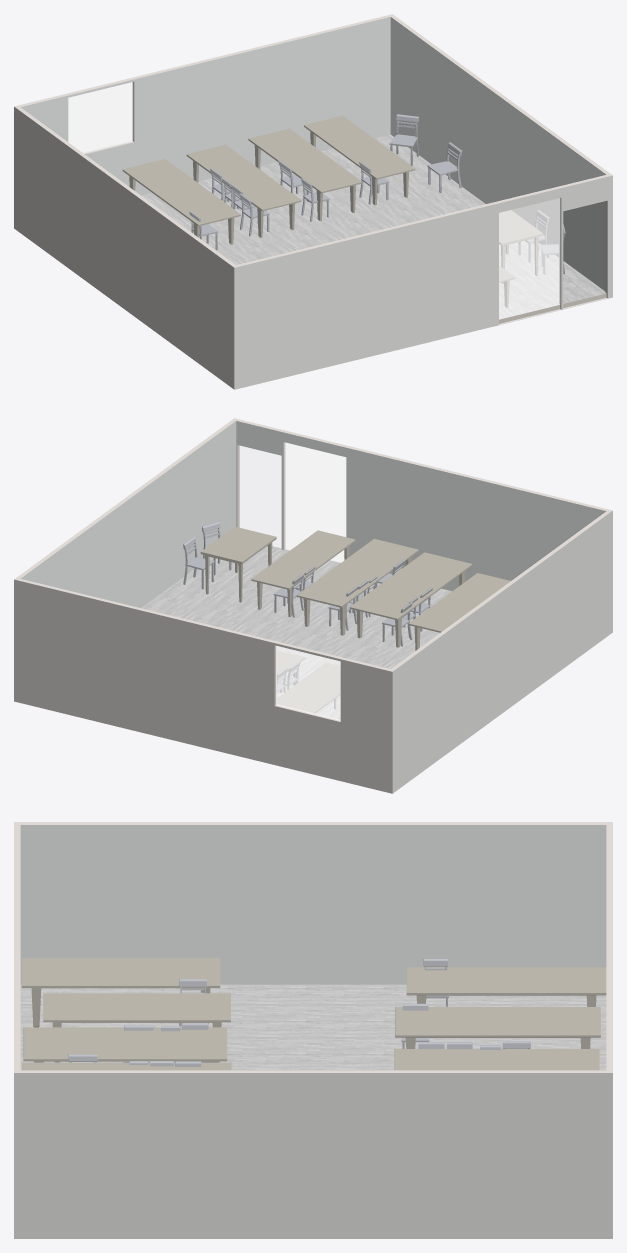
3 renders of one model, top to bottom at view 1: azimuth 30°, elevation 25°; view 2: azimuth 150°, elevation 25°; view 3: azimuth 270°, elevation 25°, orthographic. The views are drawn at different scales.
Parts seen in each view (by area): view 1: ceiling_Dining Room_0, wall_3, wall_4, wall_1, wall_8, floor_Dining Room_0, door_0, door_2, window_0, window_2, table_dining_rect5, table_dining_rect9 (+10 smaller); view 2: ceiling_Dining Room_0, wall_0, wall_1, wall_10, wall_8, floor_Dining Room_0, door_0, door_2, table_dining_rect0, table_dining_rect6, window_0, window_2 (+9 smaller); view 3: ceiling_Dining Room_0, wall_2, wall_6, floor_Dining Room_0, table_dining_rect0, table_dining_rect5, table_dining_rect2, table_dining_rect8, table_dining_rect4, table_dining_rect10, wall_7, wall_9 (+3 smaller).
Boxes of the visible parts, bbox=[...] form: ceiling_Dining Room_0: bbox=[22, 17, 604, 263]; wall_3: bbox=[234, 175, 612, 389]; wall_4: bbox=[21, 17, 390, 195]; wall_1: bbox=[14, 107, 234, 389]; wall_8: bbox=[390, 17, 605, 290]; floor_Dining Room_0: bbox=[141, 134, 606, 319]; door_0: bbox=[499, 198, 559, 319]; door_2: bbox=[499, 198, 559, 319]; window_0: bbox=[68, 82, 132, 152]; window_2: bbox=[68, 82, 132, 152]; table_dining_rect5: bbox=[122, 159, 240, 244]; table_dining_rect9: bbox=[248, 128, 362, 220]; ceiling_Dining Room_0: bbox=[22, 421, 604, 667]; wall_0: bbox=[14, 579, 392, 793]; wall_1: bbox=[392, 511, 612, 793]; wall_10: bbox=[236, 421, 605, 591]; wall_8: bbox=[21, 421, 236, 607]; floor_Dining Room_0: bbox=[141, 546, 451, 718]; door_0: bbox=[285, 443, 345, 562]; door_2: bbox=[285, 443, 345, 562]; table_dining_rect0: bbox=[349, 552, 472, 647]; table_dining_rect6: bbox=[297, 538, 418, 635]; window_0: bbox=[276, 646, 340, 720]; window_2: bbox=[276, 646, 340, 720]; ceiling_Dining Room_0: bbox=[21, 825, 605, 1069]; wall_2: bbox=[14, 1073, 612, 1238]; wall_6: bbox=[20, 825, 606, 984]; floor_Dining Room_0: bbox=[20, 984, 606, 1070]; table_dining_rect0: bbox=[23, 1027, 227, 1062]; table_dining_rect5: bbox=[395, 1007, 600, 1048]; table_dining_rect2: bbox=[21, 958, 220, 1027]; table_dining_rect8: bbox=[406, 967, 606, 1006]; table_dining_rect4: bbox=[43, 993, 230, 1062]; table_dining_rect10: bbox=[394, 1049, 599, 1070]; wall_7: bbox=[14, 822, 612, 824]; wall_9: bbox=[15, 1070, 611, 1072].
Size of the model in its own units: 9.13 by 2.81 by 9.21.
47 materials, 1 textured.
